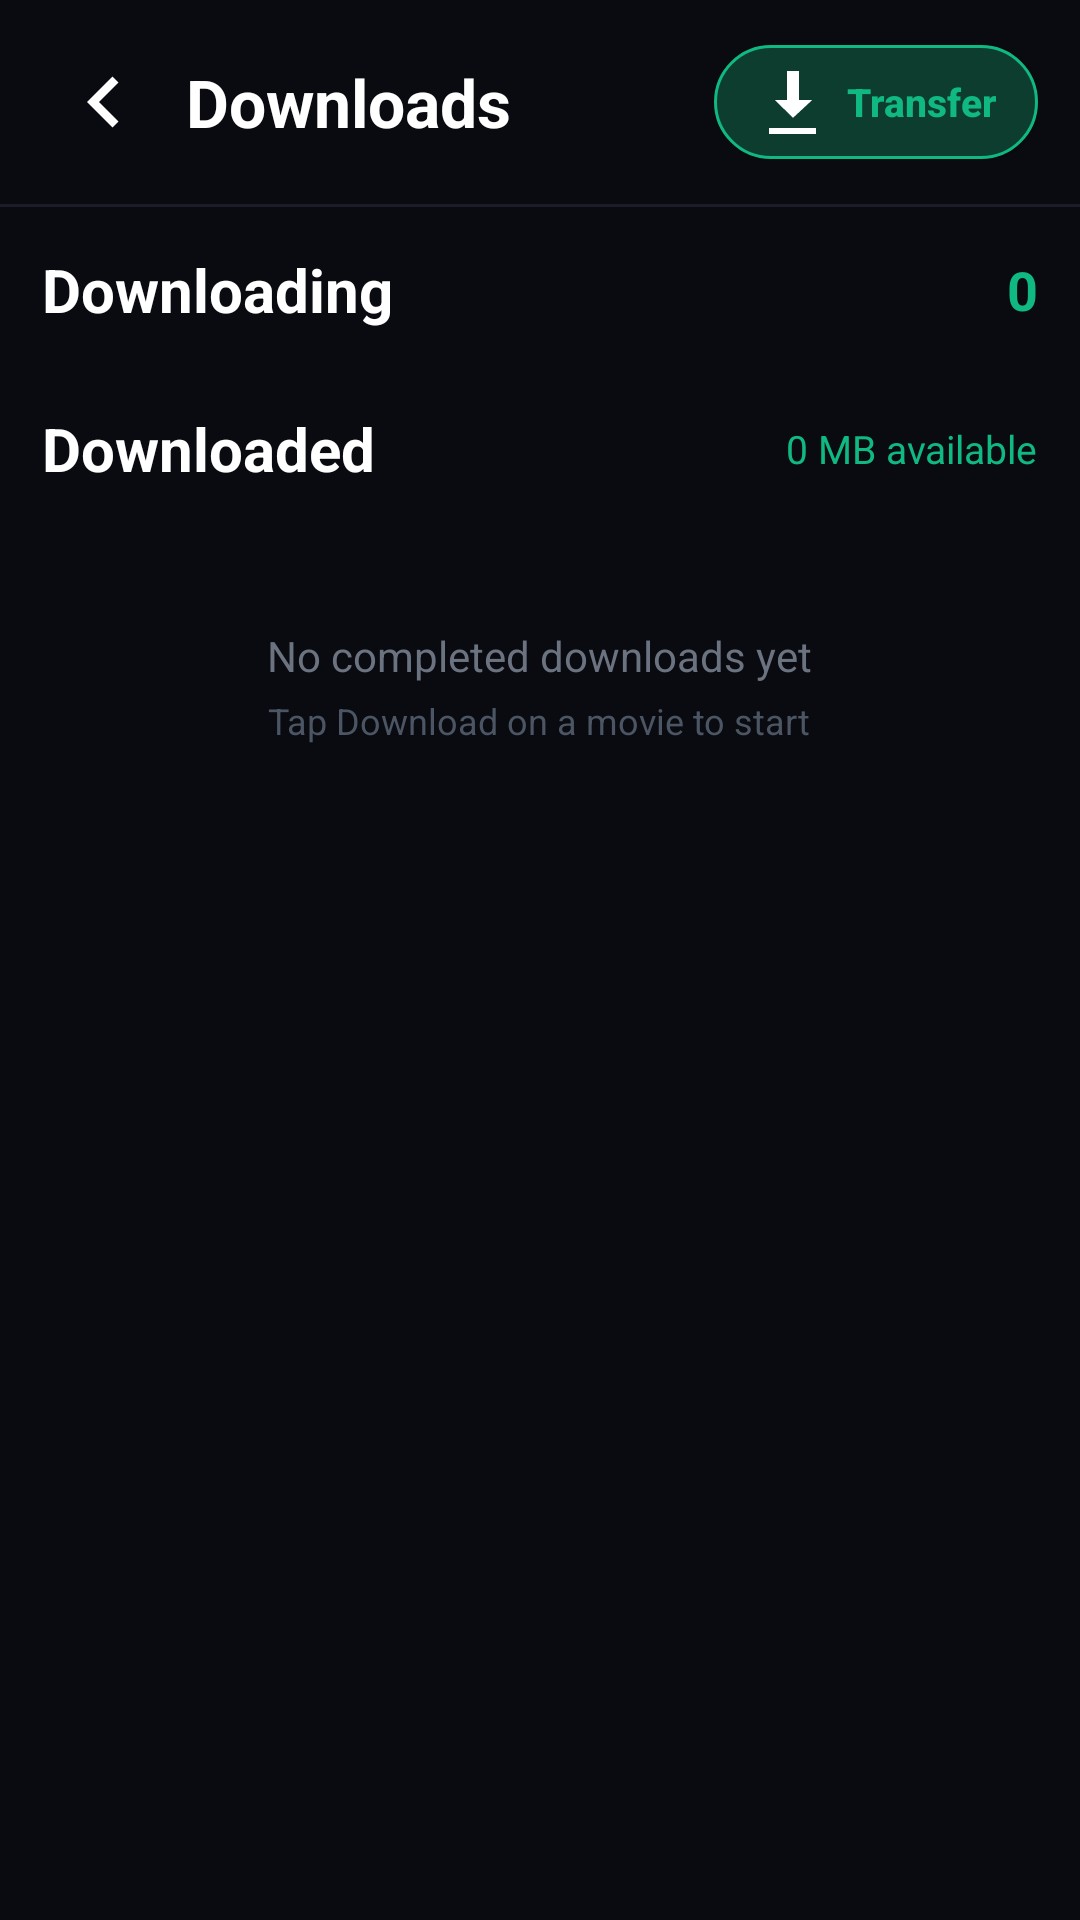

Icons on this 1080*1920 Android screen, each with its box as {"x1": x1, "y1": y1, "x2": x2, "y2": y2}:
Back: {"x1": 87, "y1": 76, "x2": 119, "y2": 128}
